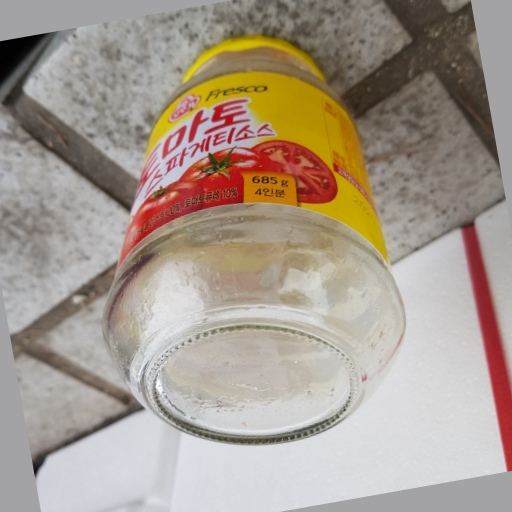Glass_5: (97, 39, 408, 442)
